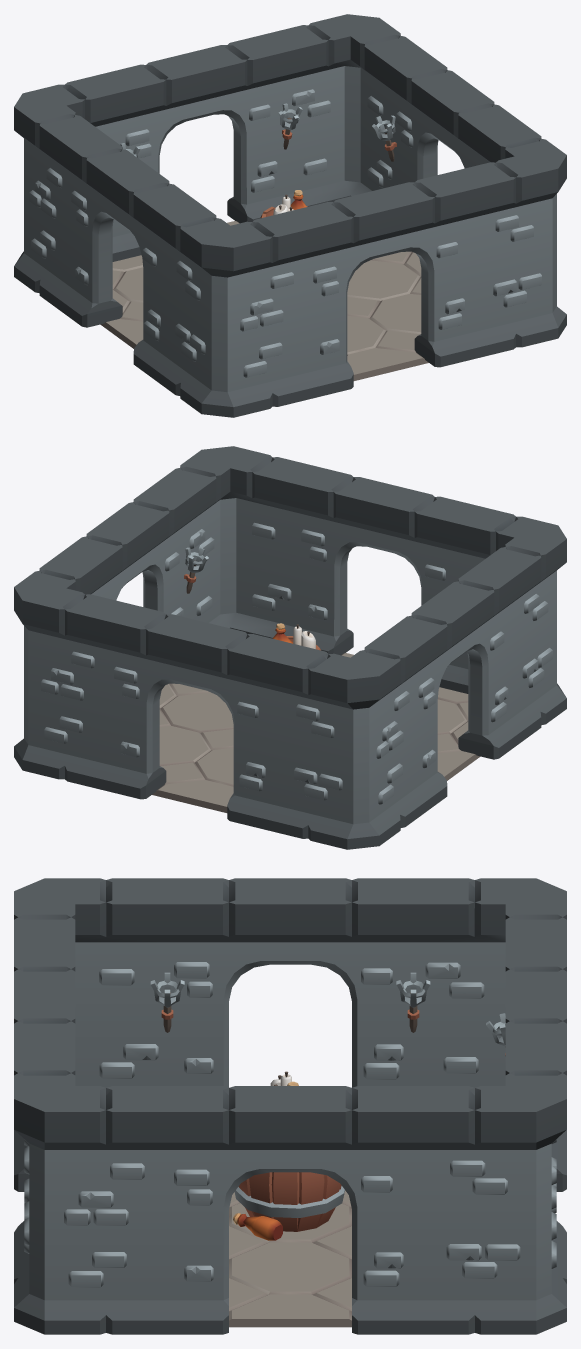
Rendered from start.gltf.
3 views of the same model, one above another, from view 1: azimuth 30°, elevation 25°; view 2: azimuth 150°, elevation 25°; view 3: azimuth 270°, elevation 25° (orthographic). The views are drawn at different scales.
Parts seen in each view (by area): view 1: wall_corner, wall_doorway, wall_corner.002, wall_corner.001, wall_doorway.001, wall_doorway.002, wall_corner.003, wall_doorway.003, floor_tile_large, floor_tile_large.002, floor_tile_large.003, floor_tile_large.001 (+3 smaller); view 2: wall_corner.003, wall_doorway.001, wall_corner.001, wall_corner.002, wall_doorway, wall_doorway.002, wall_corner, wall_doorway.003, floor_tile_large.003, floor_tile_large.001, floor_tile_large, floor_tile_large.002 (+2 smaller); view 3: wall_doorway.003, wall_corner.002, wall_corner.001, wall_doorway.002, wall_corner, wall_corner.003, wall_doorway, wall_doorway.001, floor_tile_large.003, barrel_large_decorated, floor_tile_large, torch_mounted.003 (+1 smaller).
Part boxes in pixels (x1=…): wall_corner: x1=154, y1=200, x2=314, y2=417; wall_doorway: x1=292, y1=171, x2=477, y2=397; wall_corner.002: x1=266, y1=14, x2=425, y2=206; wall_corner.001: x1=454, y1=121, x2=566, y2=358; wall_doorway.001: x1=104, y1=34, x2=289, y2=258; wall_doorway.002: x1=61, y1=131, x2=194, y2=379; wall_corner.003: x1=14, y1=73, x2=127, y2=310; wall_doorway.003: x1=385, y1=52, x2=519, y2=185; floor_tile_large: x1=347, y1=267, x2=428, y2=373; floor_tile_large.002: x1=100, y1=255, x2=143, y2=344; floor_tile_large.003: x1=227, y1=221, x2=420, y2=284; floor_tile_large.001: x1=128, y1=335, x2=384, y2=380; wall_corner.003: x1=266, y1=632, x2=426, y2=849; wall_doorway.001: x1=103, y1=603, x2=288, y2=829; wall_corner.001: x1=155, y1=446, x2=314, y2=638; wall_corner.002: x1=14, y1=553, x2=126, y2=790; wall_doorway: x1=291, y1=466, x2=476, y2=690; wall_doorway.002: x1=386, y1=563, x2=519, y2=811; wall_corner: x1=453, y1=505, x2=566, y2=742; wall_doorway.003: x1=61, y1=484, x2=195, y2=617; floor_tile_large.003: x1=152, y1=699, x2=233, y2=805; floor_tile_large.001: x1=437, y1=687, x2=480, y2=776; floor_tile_large: x1=160, y1=653, x2=353, y2=716; floor_tile_large.002: x1=196, y1=767, x2=452, y2=812; wall_doorway.003: x1=167, y1=1086, x2=413, y2=1334; wall_corner.002: x1=413, y1=1047, x2=566, y2=1334; wall_corner.001: x1=14, y1=1047, x2=167, y2=1334; wall_doorway.002: x1=167, y1=878, x2=413, y2=1087; wall_corner: x1=14, y1=878, x2=167, y2=1151; wall_corner.003: x1=413, y1=878, x2=566, y2=1151; wall_doorway: x1=14, y1=943, x2=75, y2=1255; wall_doorway.001: x1=505, y1=943, x2=566, y2=1255; floor_tile_large.003: x1=290, y1=1215, x2=351, y2=1327; barrel_large_decorated: x1=233, y1=1071, x2=344, y2=1240; floor_tile_large: x1=229, y1=1215, x2=290, y2=1327; torch_mounted.003: x1=150, y1=972, x2=184, y2=1032.
Bounding box in the file's own units: 9 × 4.1 × 9.
Materials: 5 (5 with a texture image).
